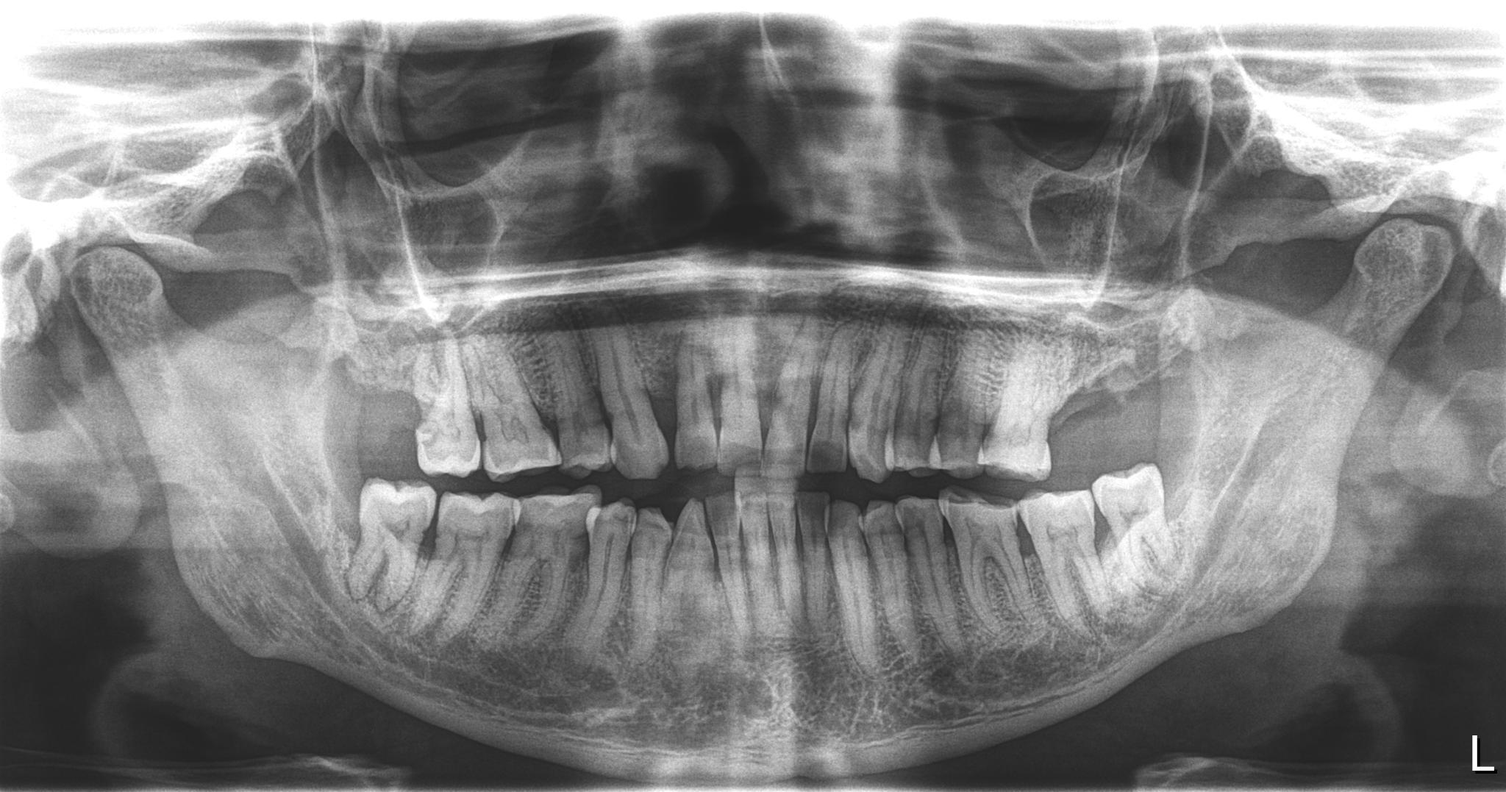Missing Tooth: (1063, 342, 1167, 460), (336, 351, 417, 483), (298, 489, 360, 597)
